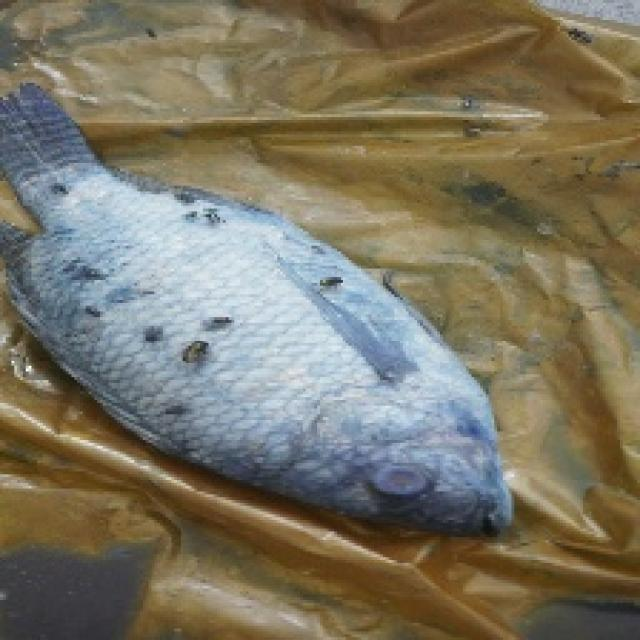Non-Fresh: (16, 158, 517, 568), (370, 456, 442, 507)
